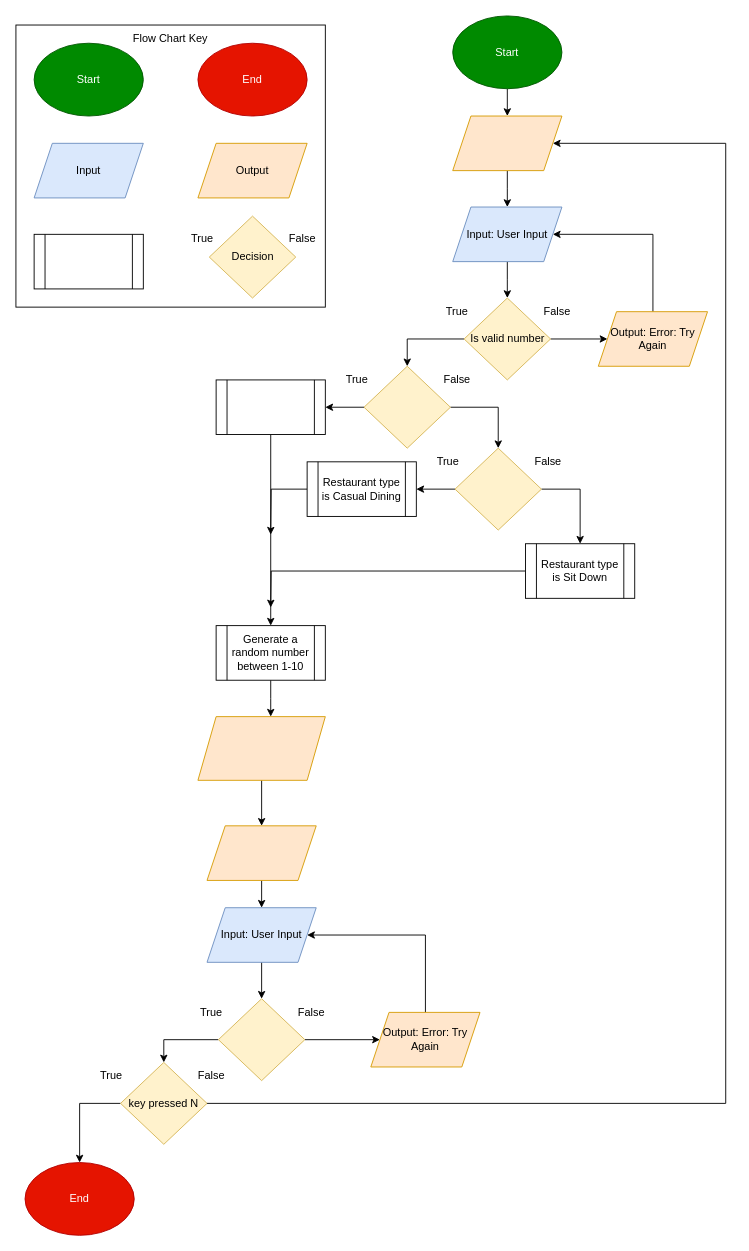
The diagram is 749 pixels wide and 1251 high, and some of its shapes have lost their labels. The shapes that lost their labels are listed below. From the top down, each one's centre as x and y in pixels, then its label:
At [507,143]: "Output: Choose restaurant type".
At [88,261]: "Process".
At [270,407]: "Restaurant type is Fast Food".
At [406,406]: "Is number 1?".
At [497,488]: "Is number 2?".
At [261,748]: "Output: Your {restaurant type} is {restaurant name}".
At [261,852]: "Output: Play again?".
At [261,1039]: "key pressed is Y or N?".
